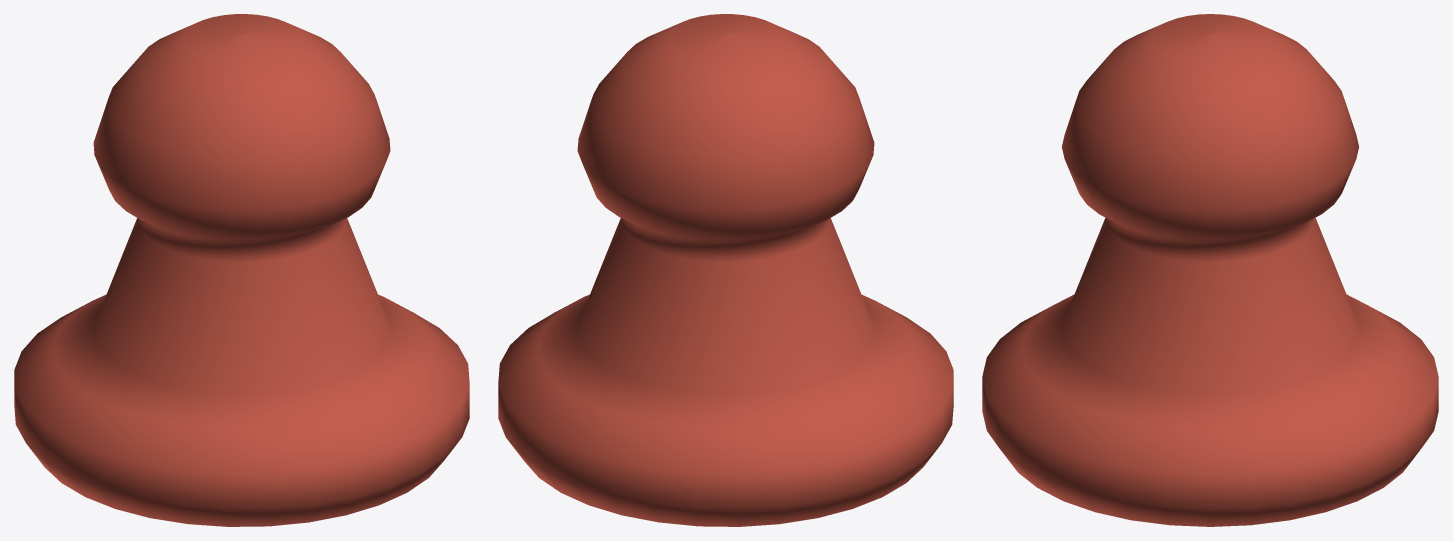
Rendered from pawn.glb.
3 views of the same model, side by side, from view 1: azimuth 30°, elevation 25°; view 2: azimuth 150°, elevation 25°; view 3: azimuth 270°, elevation 25° (orthographic).
Visible parts, largest first — view 1: Lacquered_turned_pawn; view 2: Lacquered_turned_pawn; view 3: Lacquered_turned_pawn.
Boxes of the visible parts, bbox=[...] form: Lacquered_turned_pawn: bbox=[14, 14, 469, 526]; Lacquered_turned_pawn: bbox=[498, 14, 953, 526]; Lacquered_turned_pawn: bbox=[982, 14, 1438, 526].
Bounding box in the file's own units: 0.46 × 0.464 × 0.46.
